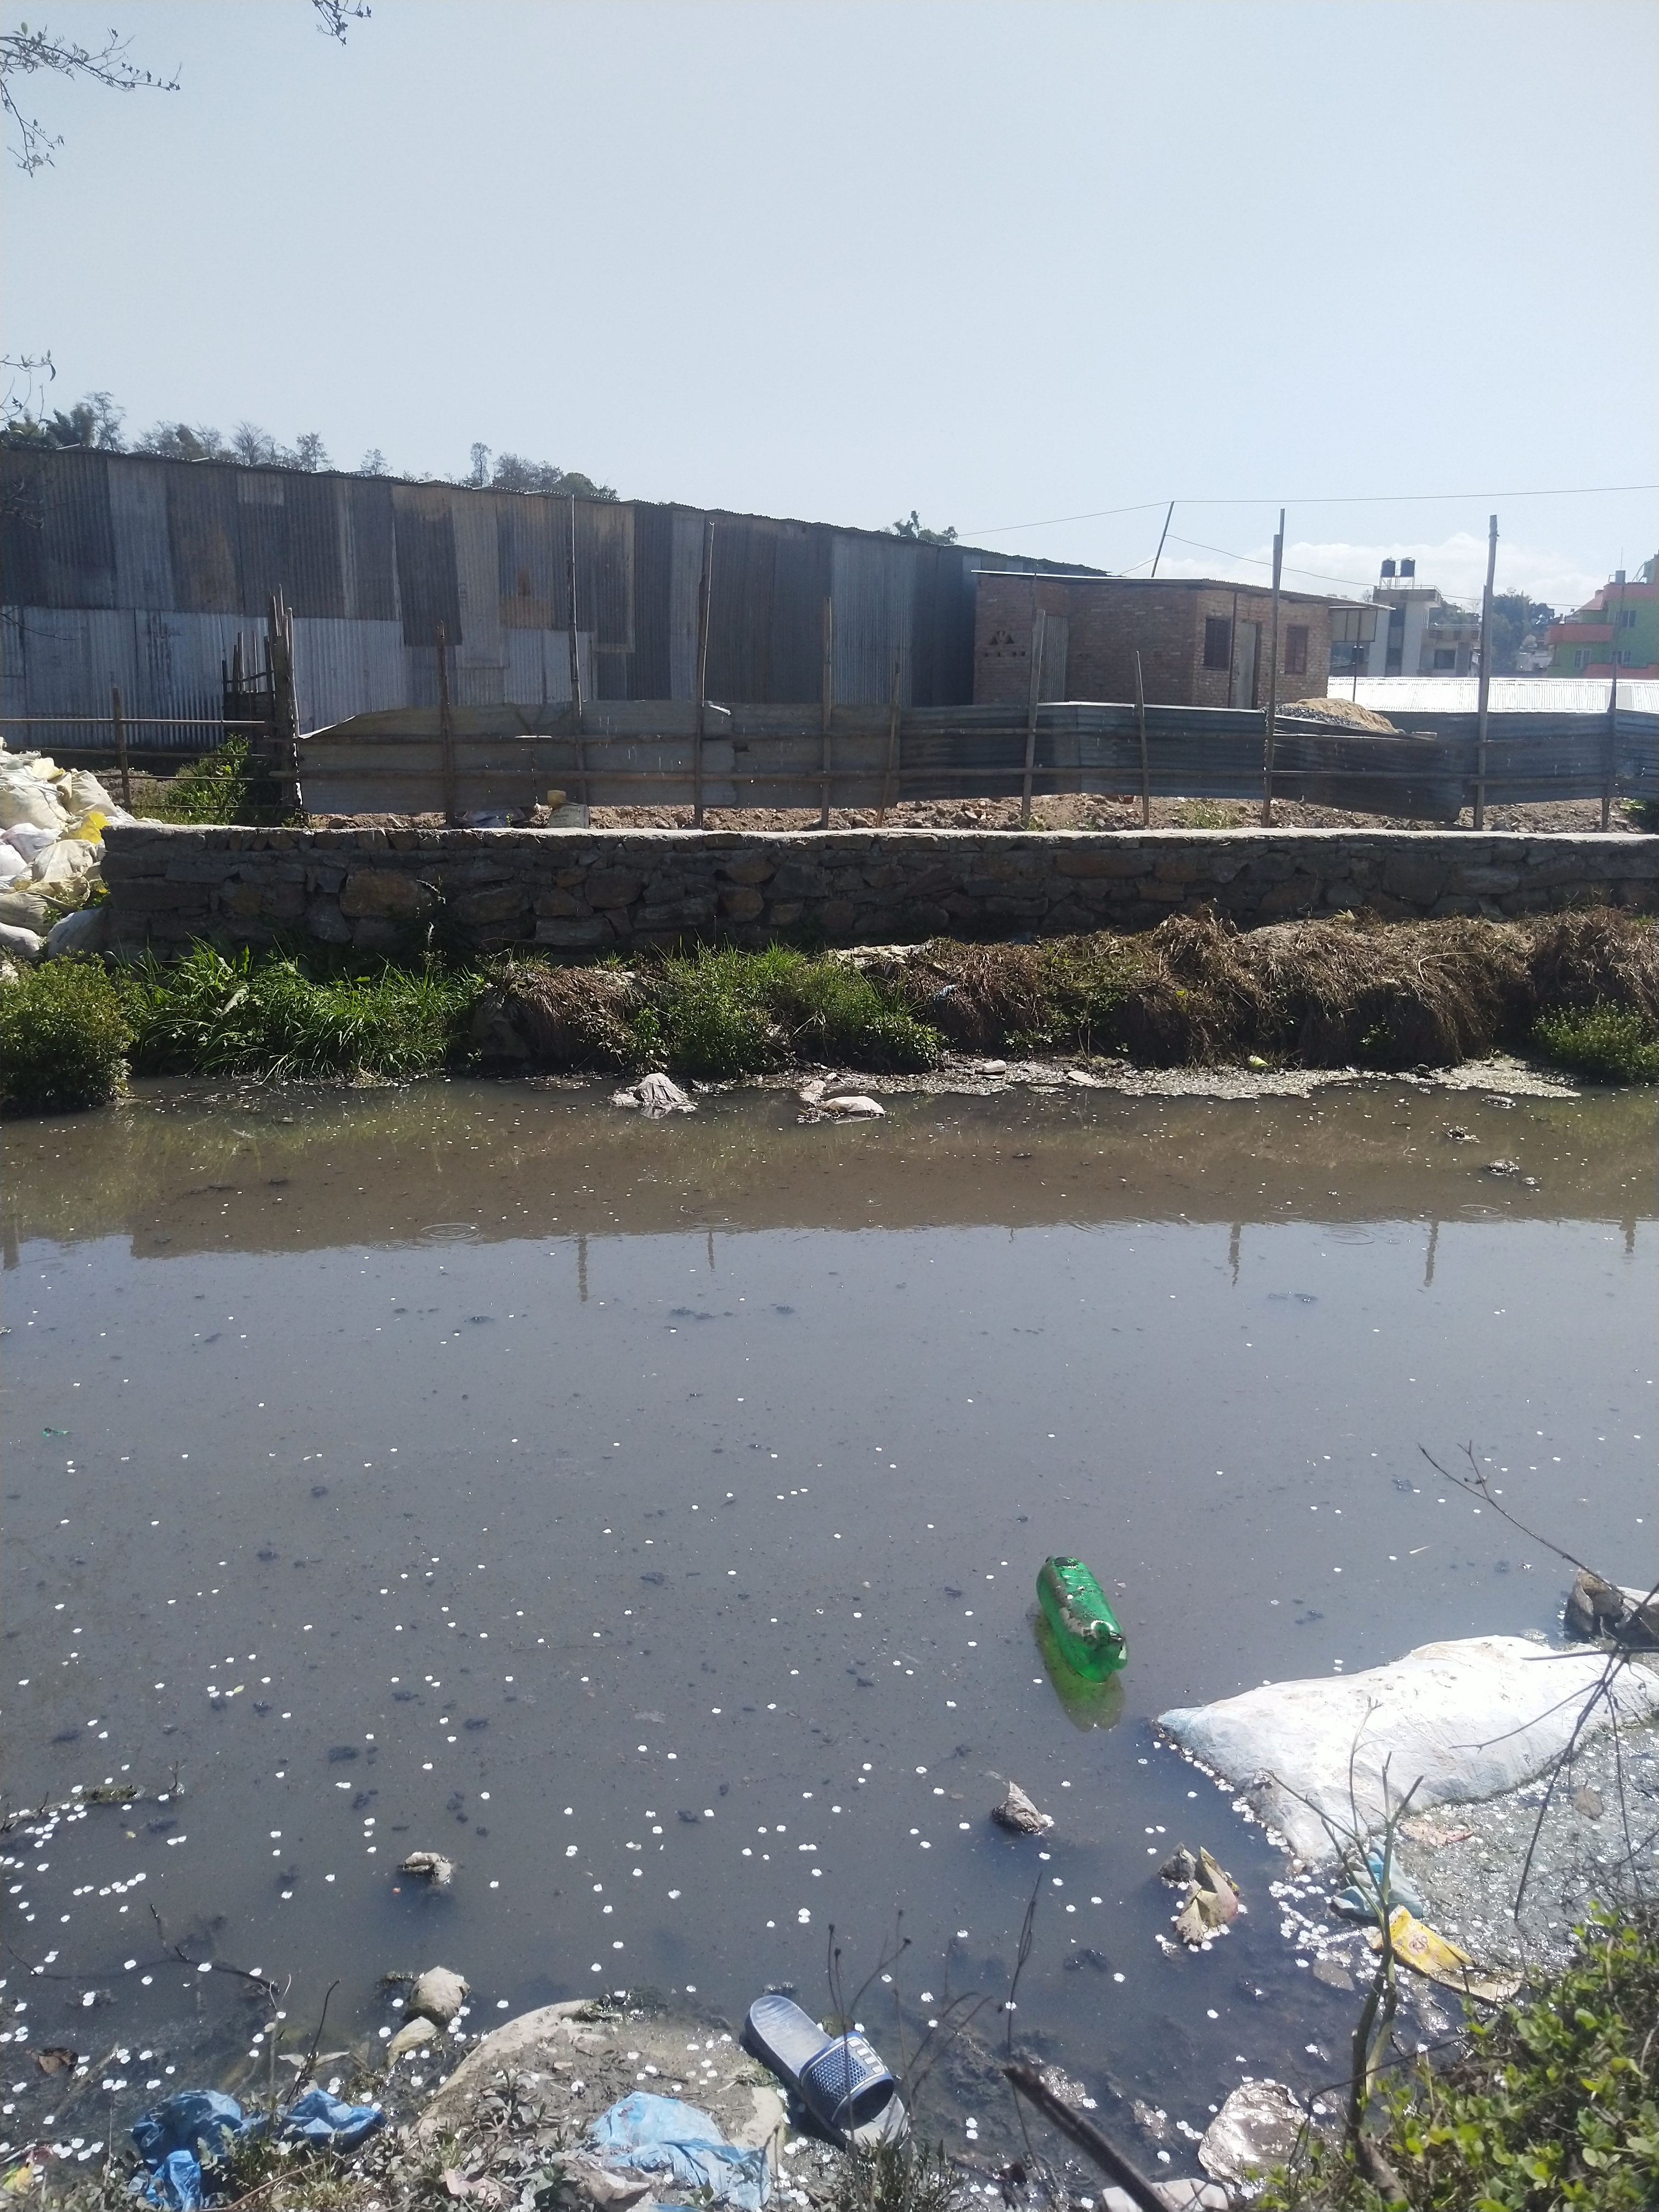Plastic Bottle: (1035, 1555, 1127, 1683), (974, 1059, 1006, 1073), (1246, 1055, 1269, 1071)
